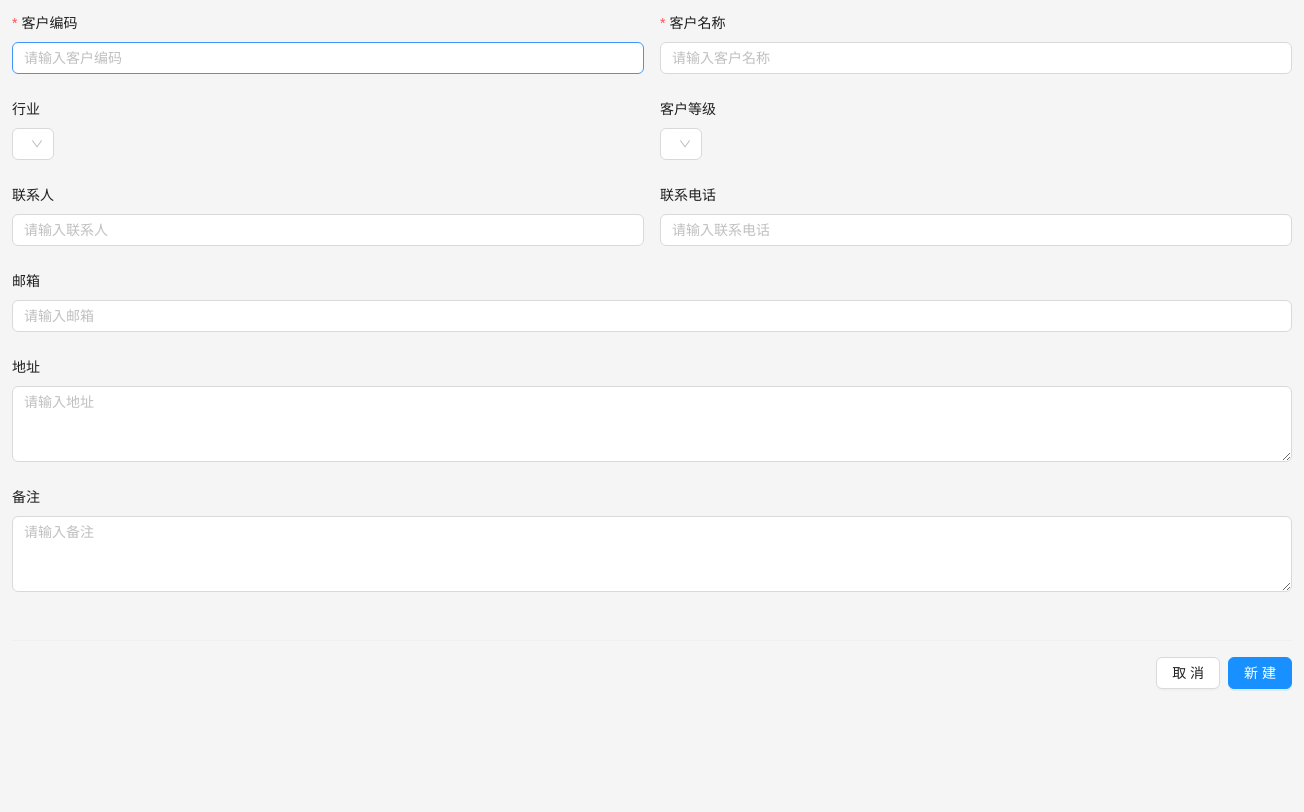
CustomerForm › validates phone number format
Type "123456" into the field labelled "联系电话".
click(976, 230); type("123456")  # box [660,214,1292,246]
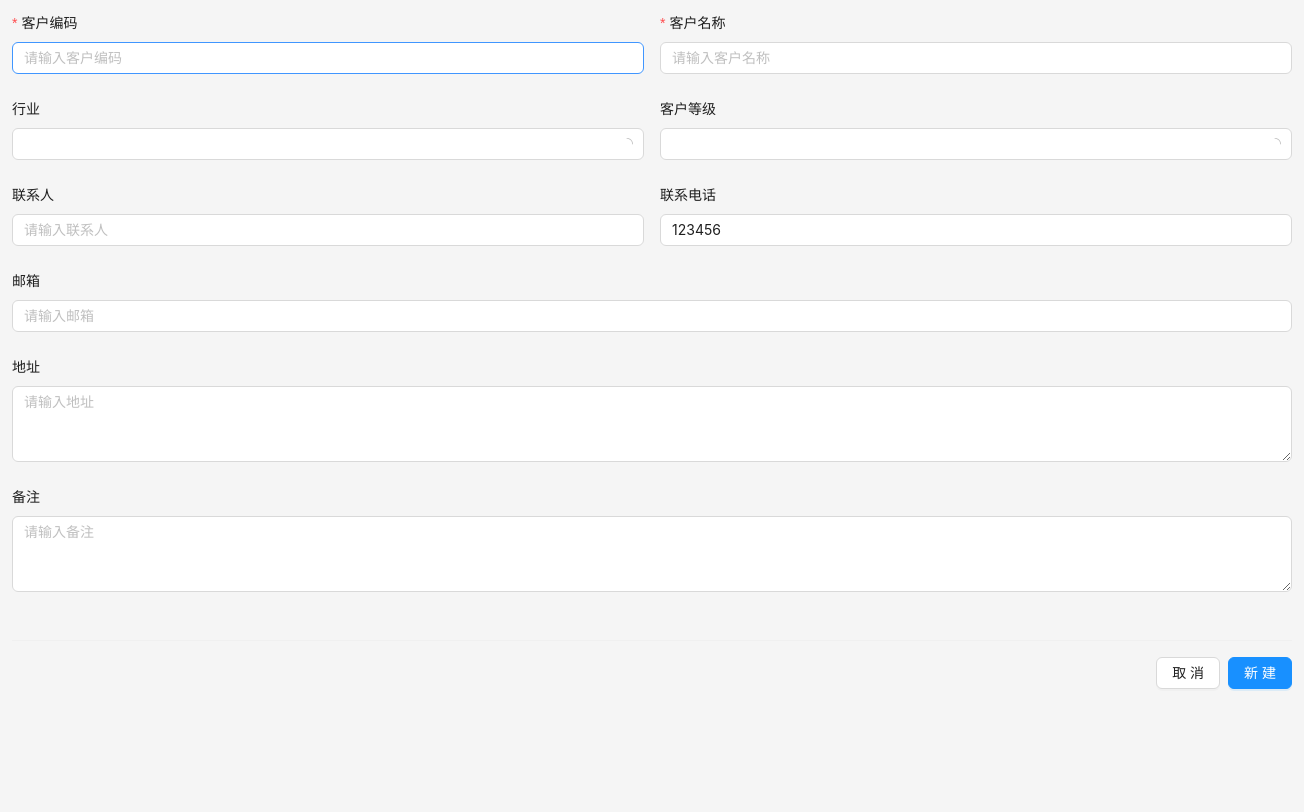
Leave the field labelled "联系电话", box [660,214,1292,246]
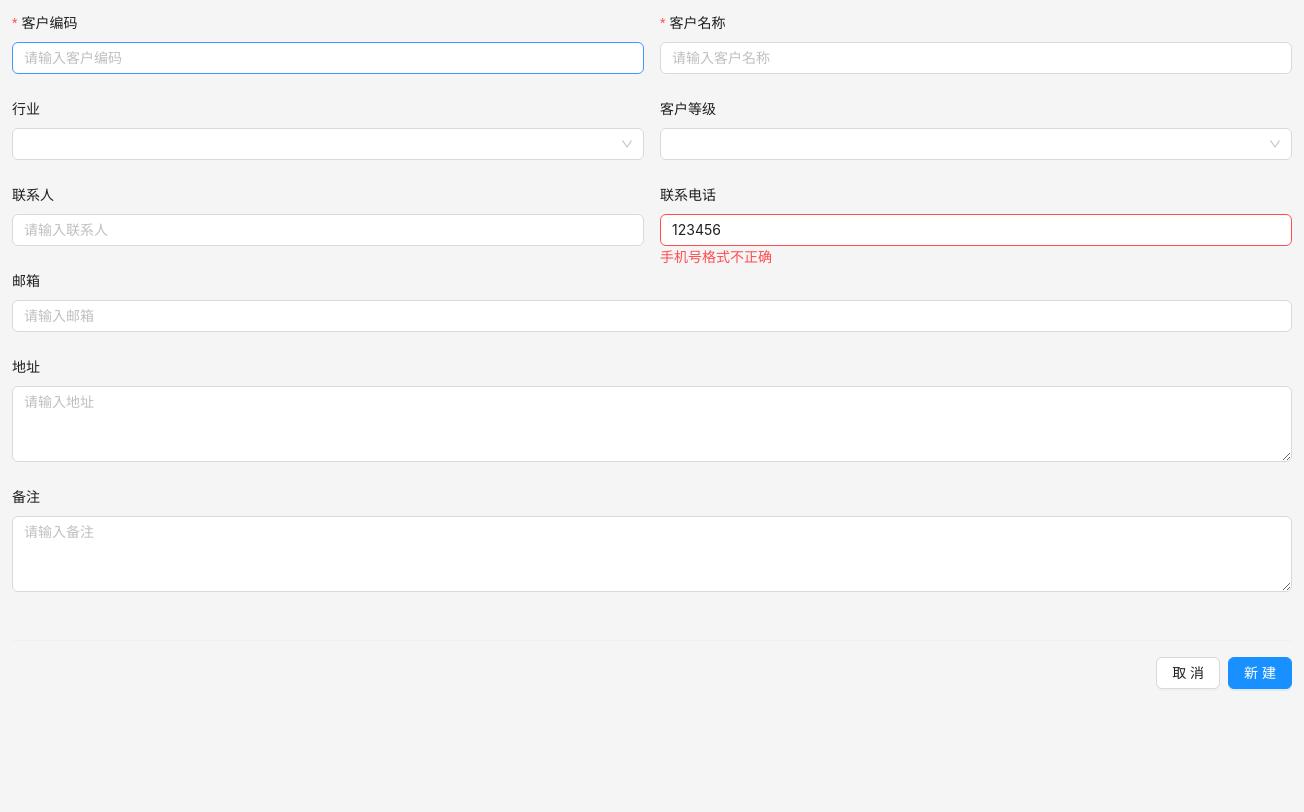
Now the text "手机号格式不正确" is shown, box [660,246,772,268]
